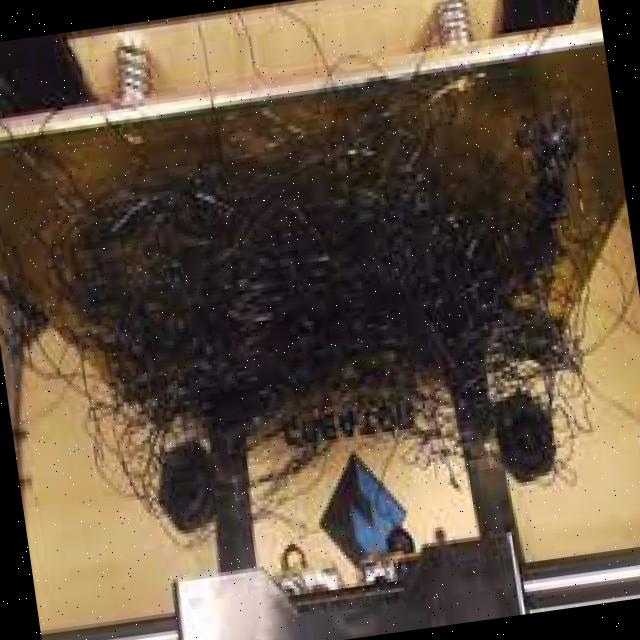spaghetti: (0, 12, 595, 582)
